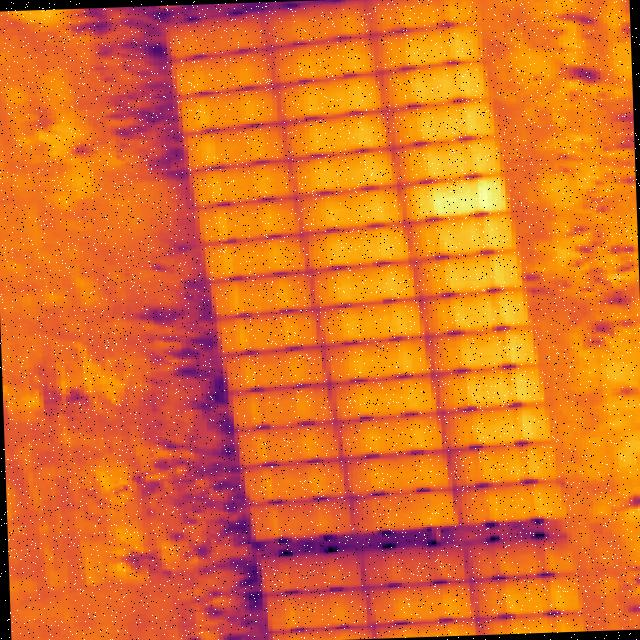Hotspot: (406, 176, 507, 216)
